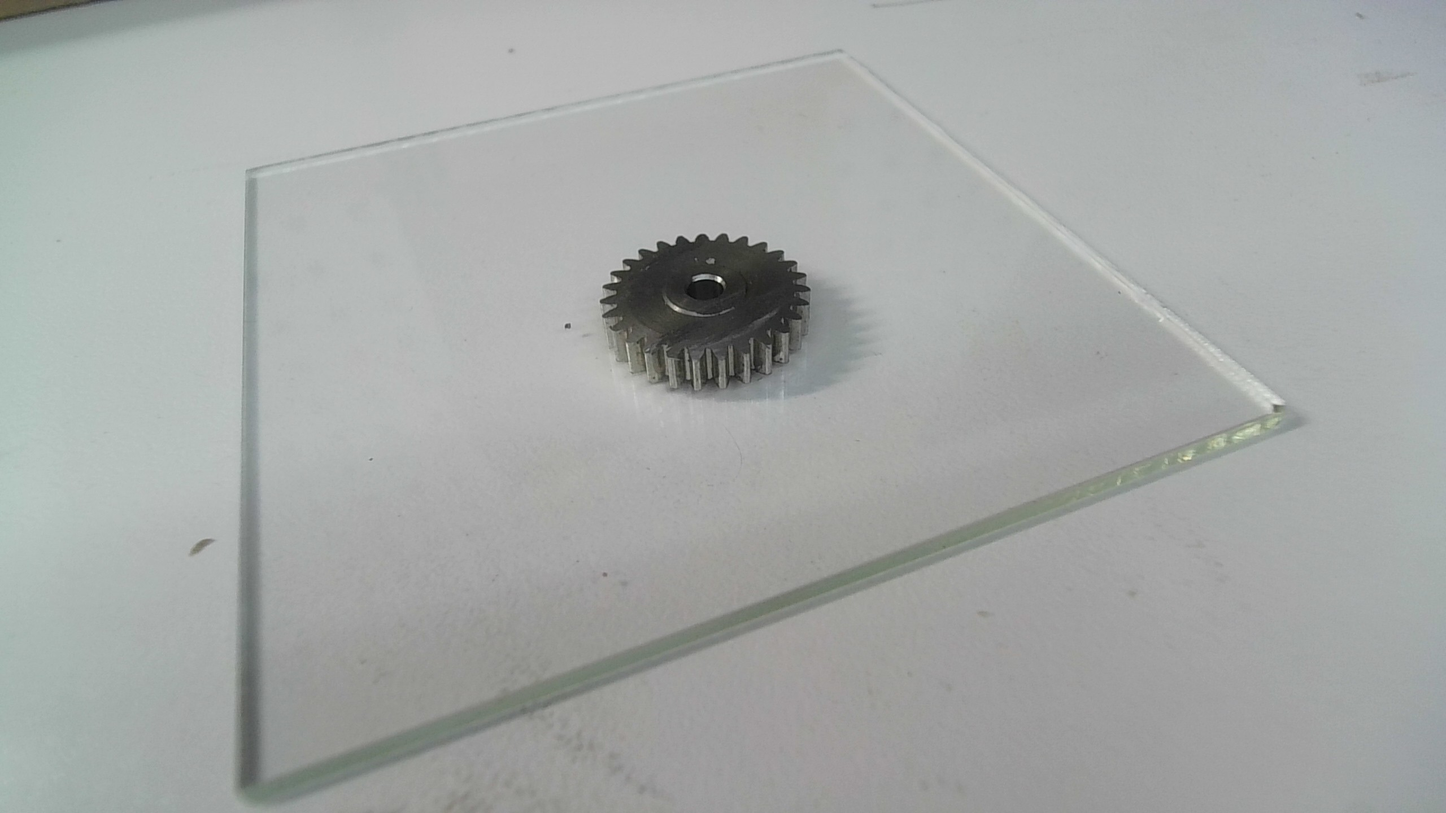gear: (598, 231, 813, 396)
